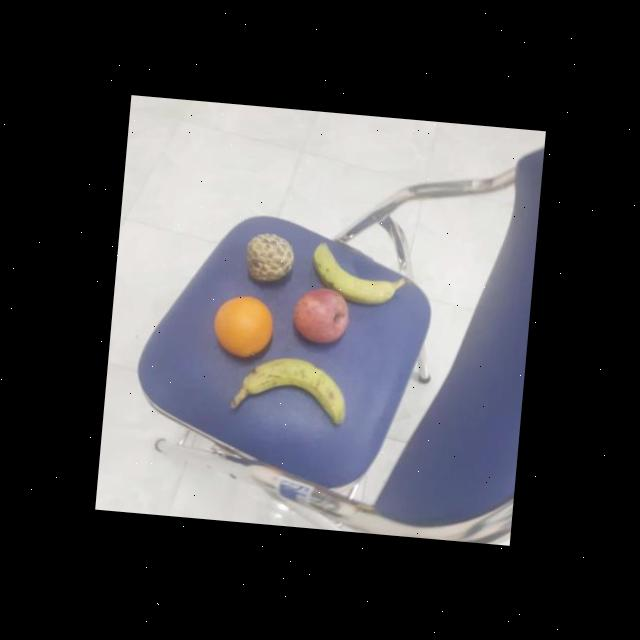Sakya fruit: (240, 228, 298, 283)
apple: (288, 282, 354, 346)
banana: (235, 352, 352, 427), (306, 235, 398, 308)
orange: (210, 291, 278, 358)
